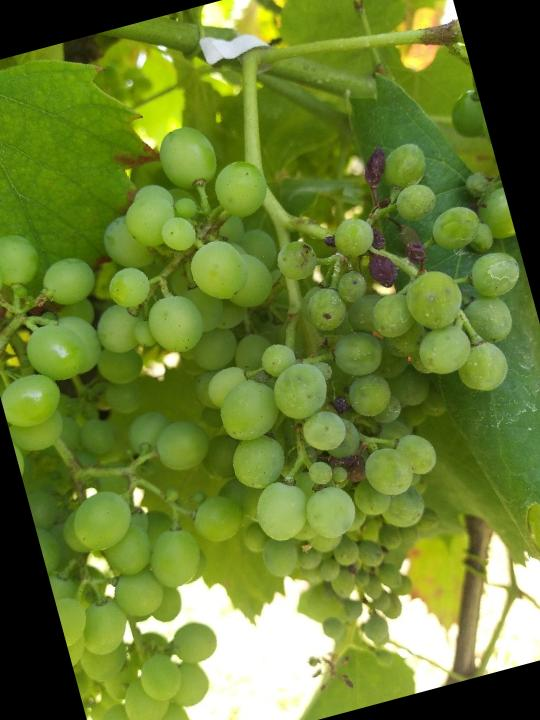grape: (52, 51, 540, 610)
